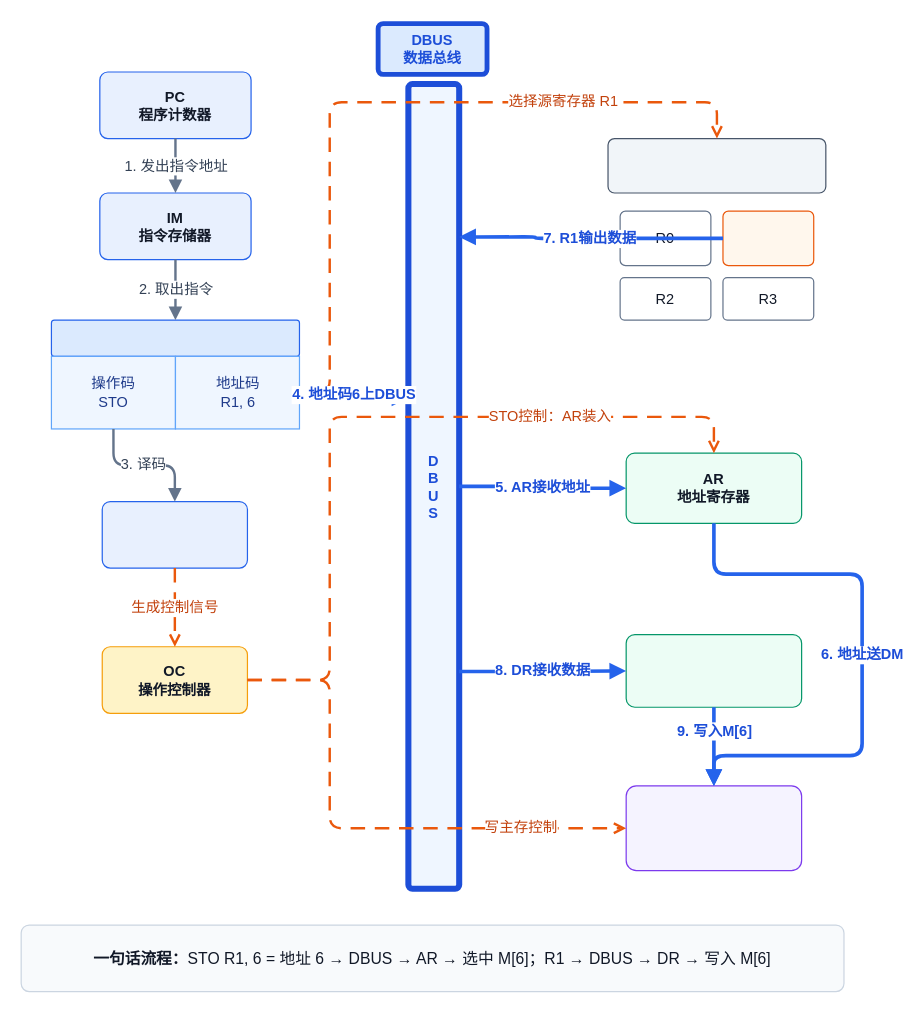
This 924x1013 diagram has some shape labels left out. The centre of each missing label's shape, as x and y in pixels:
DM 数据存储器 M[6]: point (713, 828)
DR 数据缓冲寄存器: point (713, 670)
IR（指令寄存器）: point (174, 337)
R1 源寄存器: point (768, 238)
寄存器组（R0-R3）: point (716, 165)
指令译码器: point (174, 534)
